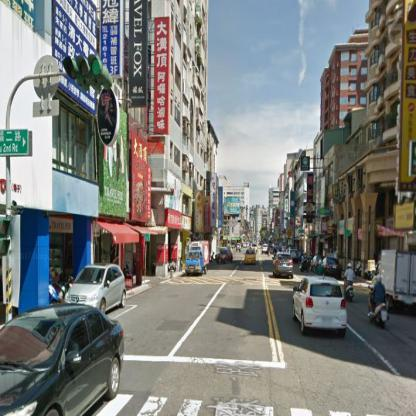Green Light: (62, 57, 108, 78)
